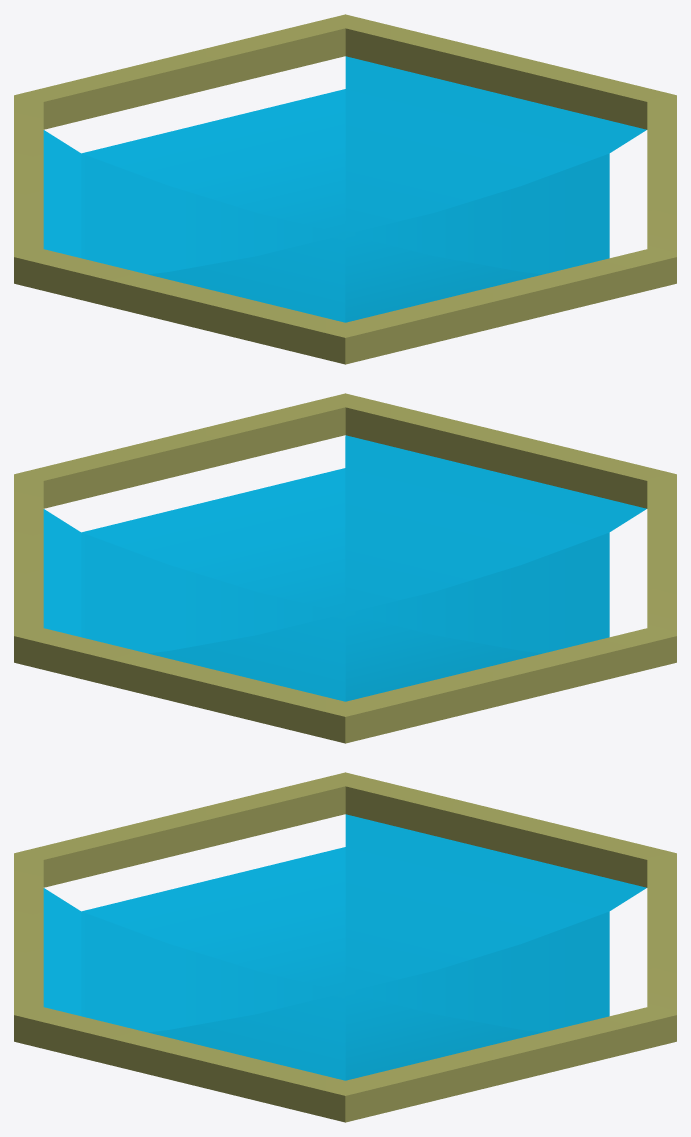
Rendered from Trampoline (1).fbx.
3 renders of one model, top to bottom at view 1: azimuth 30°, elevation 25°; view 2: azimuth 150°, elevation 25°; view 3: azimuth 270°, elevation 25°, orthographic.
Parts seen in each view (by area): view 1: pCylinder18; view 2: pCylinder18; view 3: pCylinder18.
Boxes of the visible parts, <box> form: pCylinder18: <box>14,14,676,364</box>; pCylinder18: <box>14,393,676,743</box>; pCylinder18: <box>14,772,676,1122</box>.
Size of the model in its own units: 9.25 by 0.7868 by 8.01.
